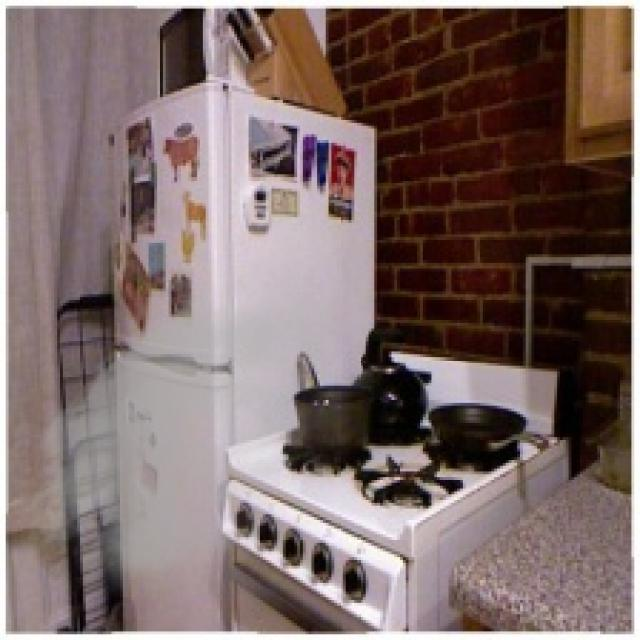smoke: (11, 255, 383, 614)
